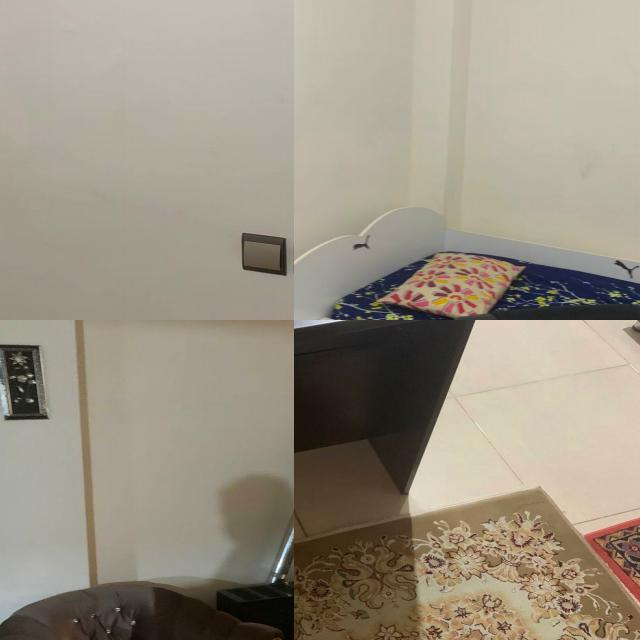Floor: (294, 320, 640, 546)
Wall: (0, 0, 294, 320), (294, 0, 392, 259)
